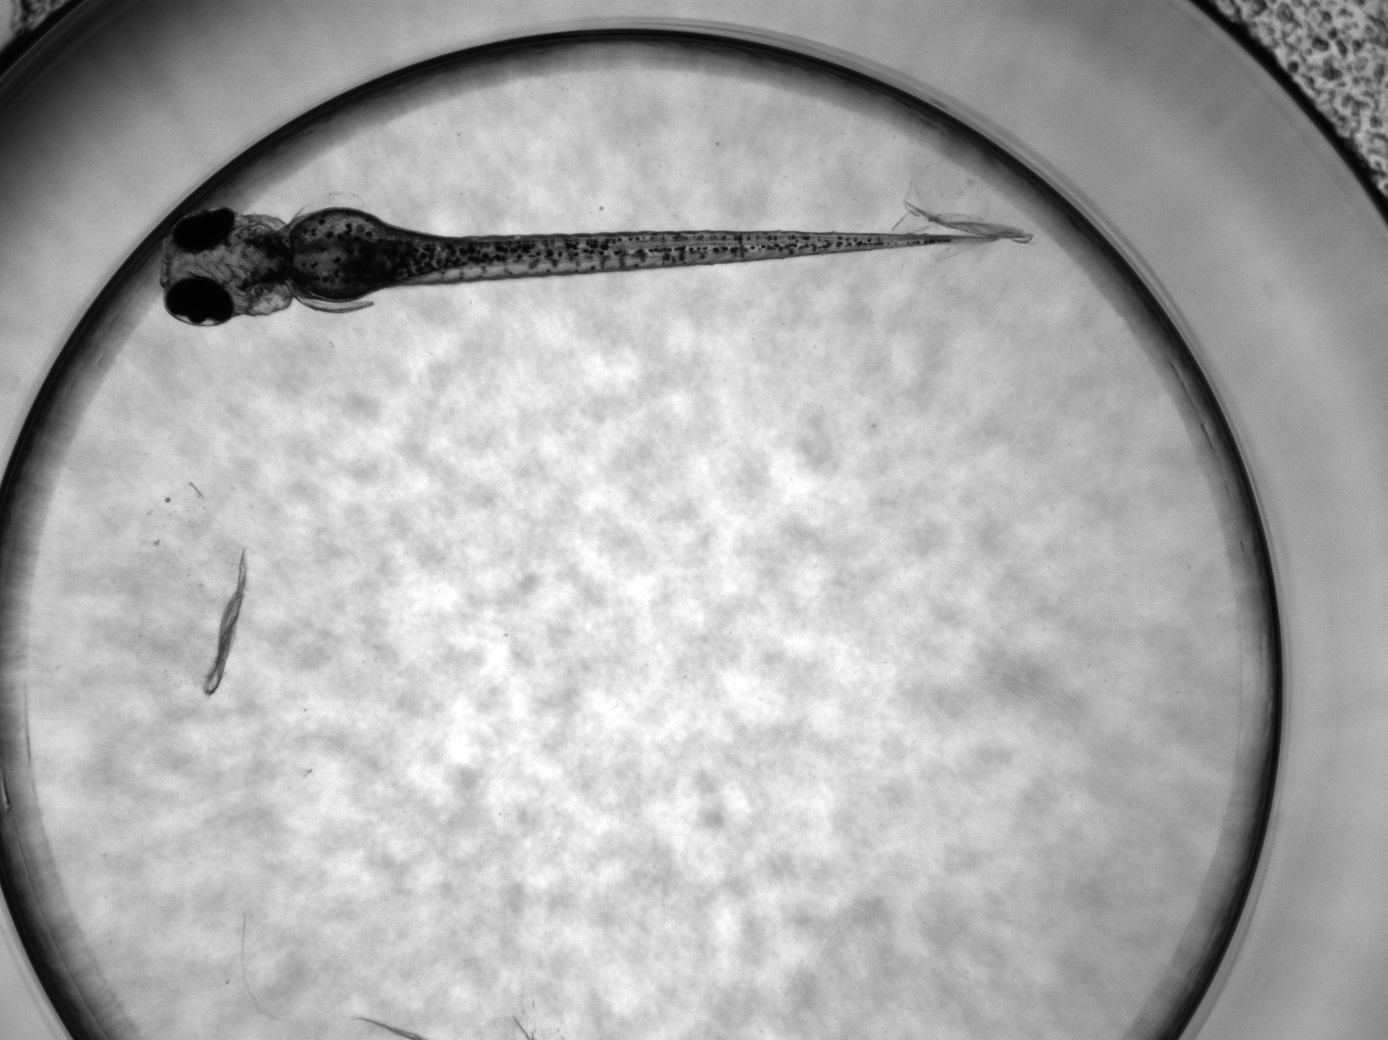debris: (194, 549, 248, 696)
embryo: (158, 206, 1033, 328)
eye: (165, 277, 235, 328), (171, 206, 234, 252)
yolksac: (290, 206, 393, 303)
